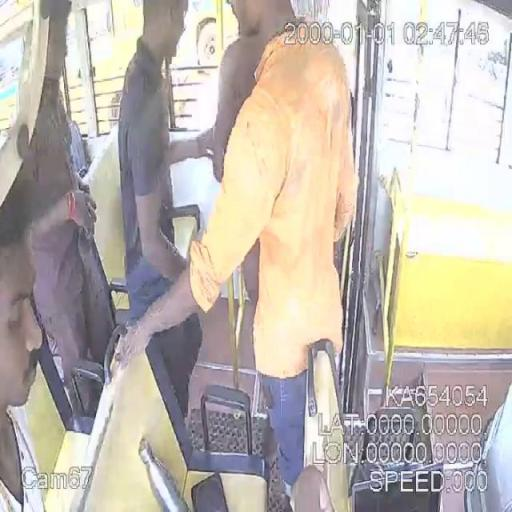persona: (121, 2, 361, 510), (112, 0, 217, 419), (32, 186, 124, 406), (0, 205, 54, 512)
